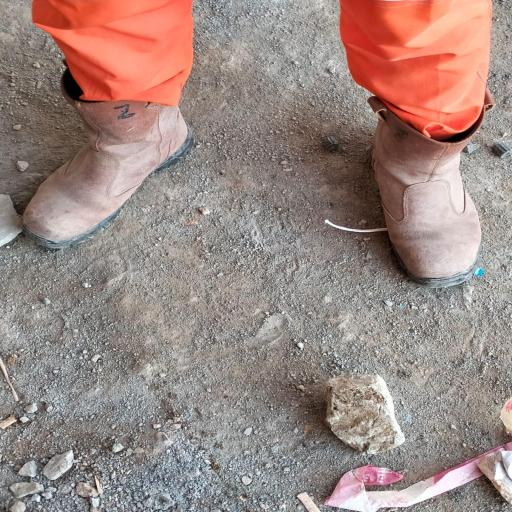safety_shoe: (16, 67, 200, 251), (351, 84, 493, 286)
